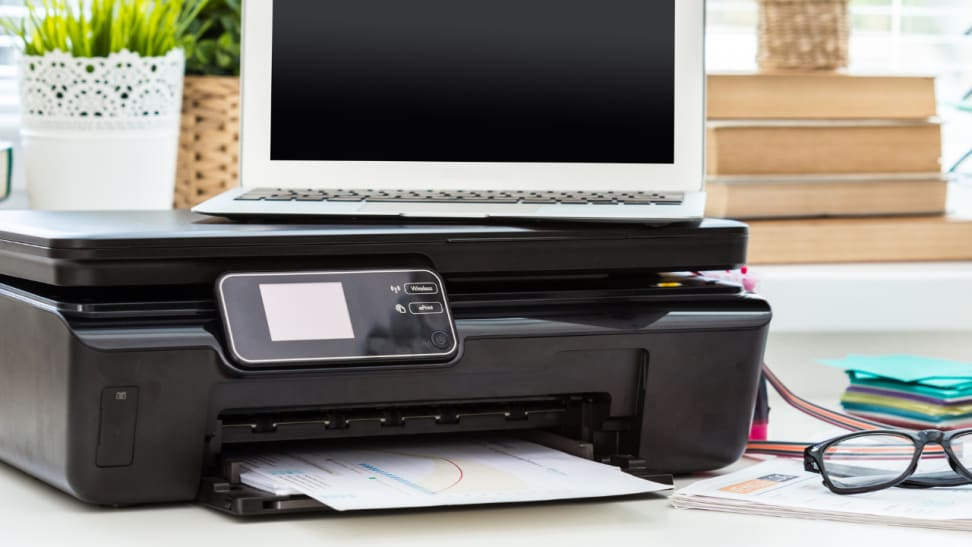printer: (6, 214, 775, 488)
